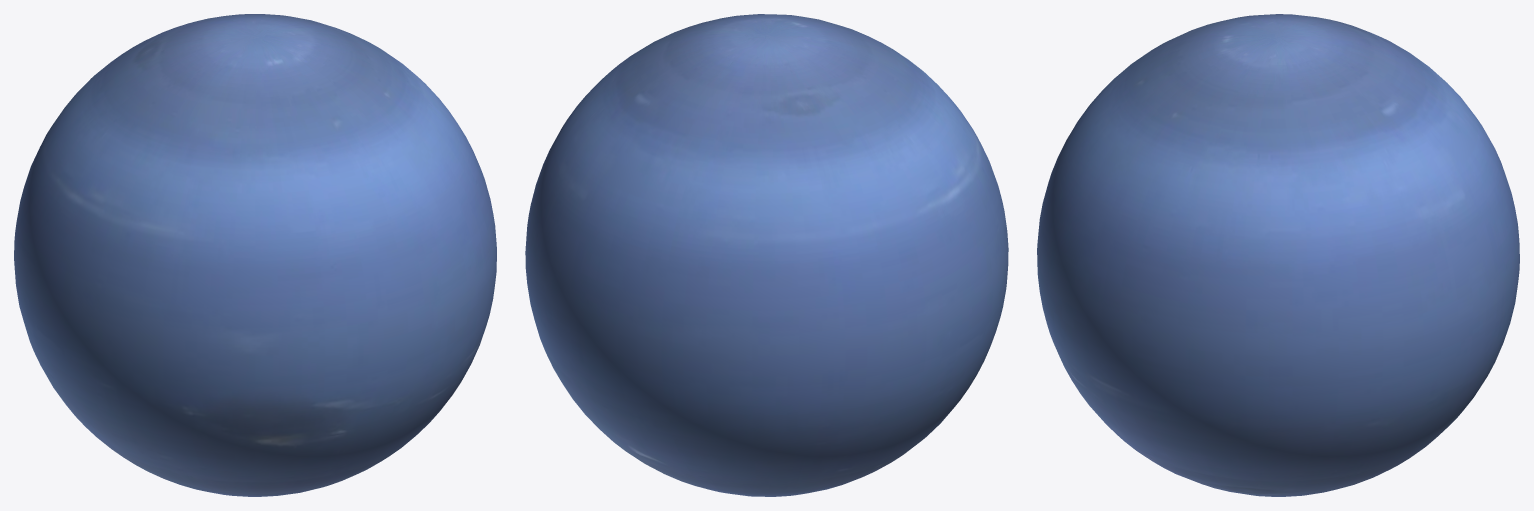
The model's file is neptune.glb.
3 views of the same model, side by side, from view 1: azimuth 30°, elevation 25°; view 2: azimuth 150°, elevation 25°; view 3: azimuth 270°, elevation 25° (orthographic).
Visible parts, largest first — view 1: Object_2; view 2: Object_2; view 3: Object_2.
Boxes of the visible parts, <box> form: Object_2: <box>14,14,496,496</box>; Object_2: <box>525,14,1008,496</box>; Object_2: <box>1037,14,1519,496</box>.
Size of the model in its own units: 2 by 2 by 2.
Materials: 1 (1 with a texture image).
